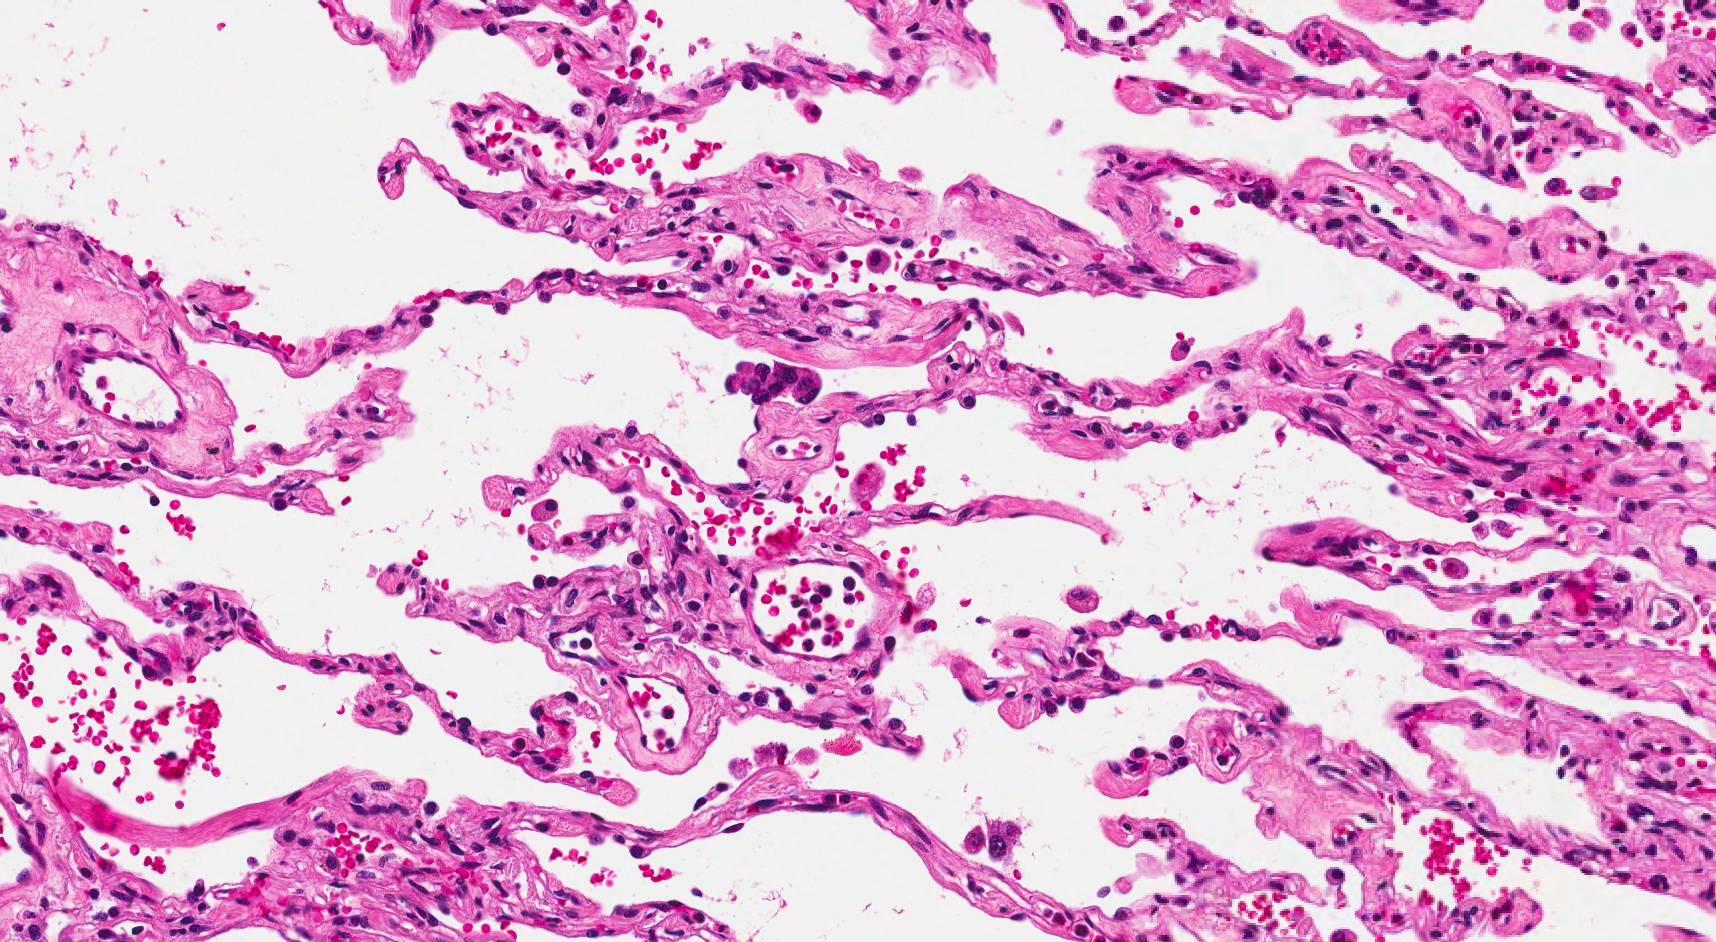stas: (721, 360, 823, 404)
